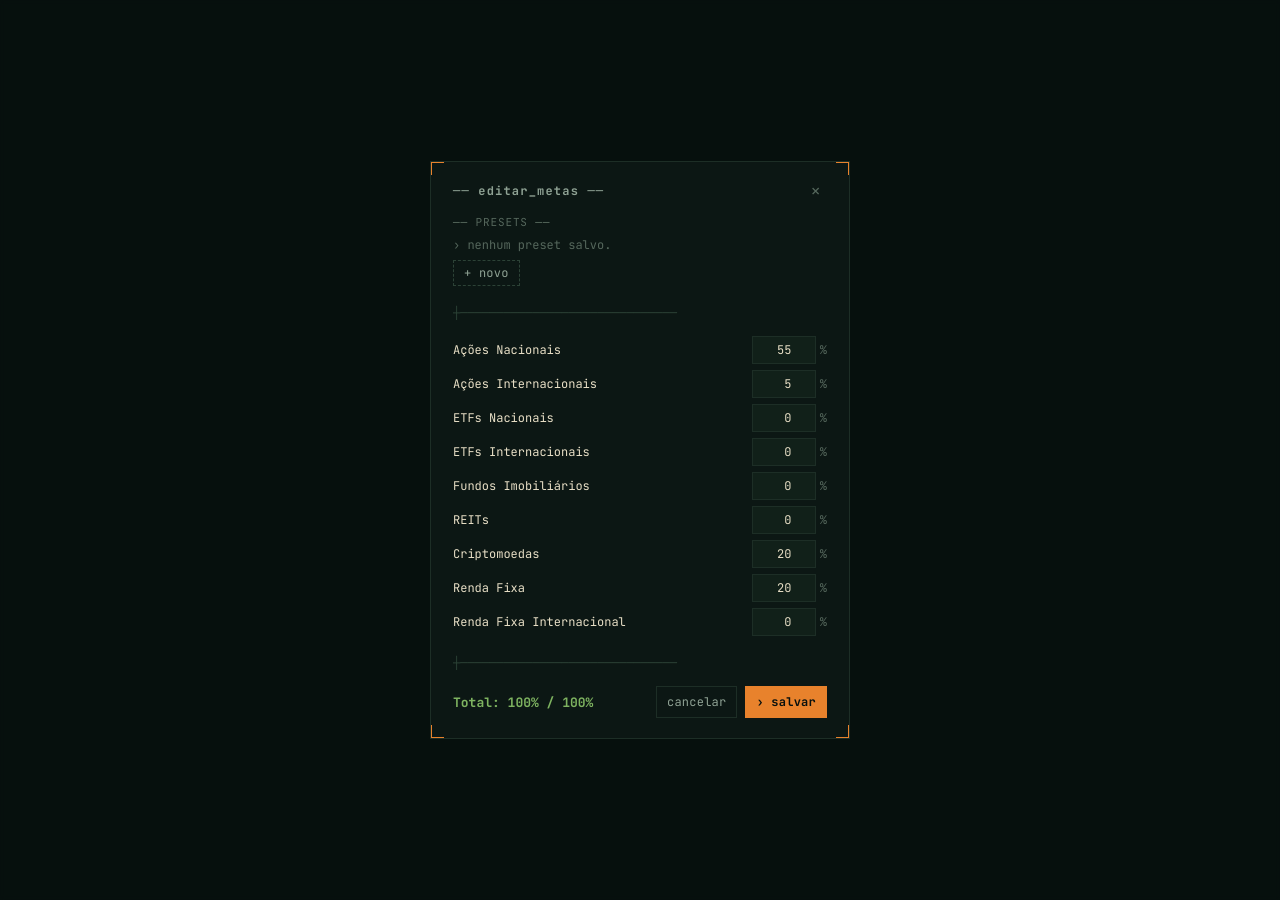
Test: EditTargetsModal › enables Save when total equals 100 after rebalancing
Replace the text in the number field with test id "target-input-acoes_nacionais" with "40" at (784, 350), box [752,336,816,364]
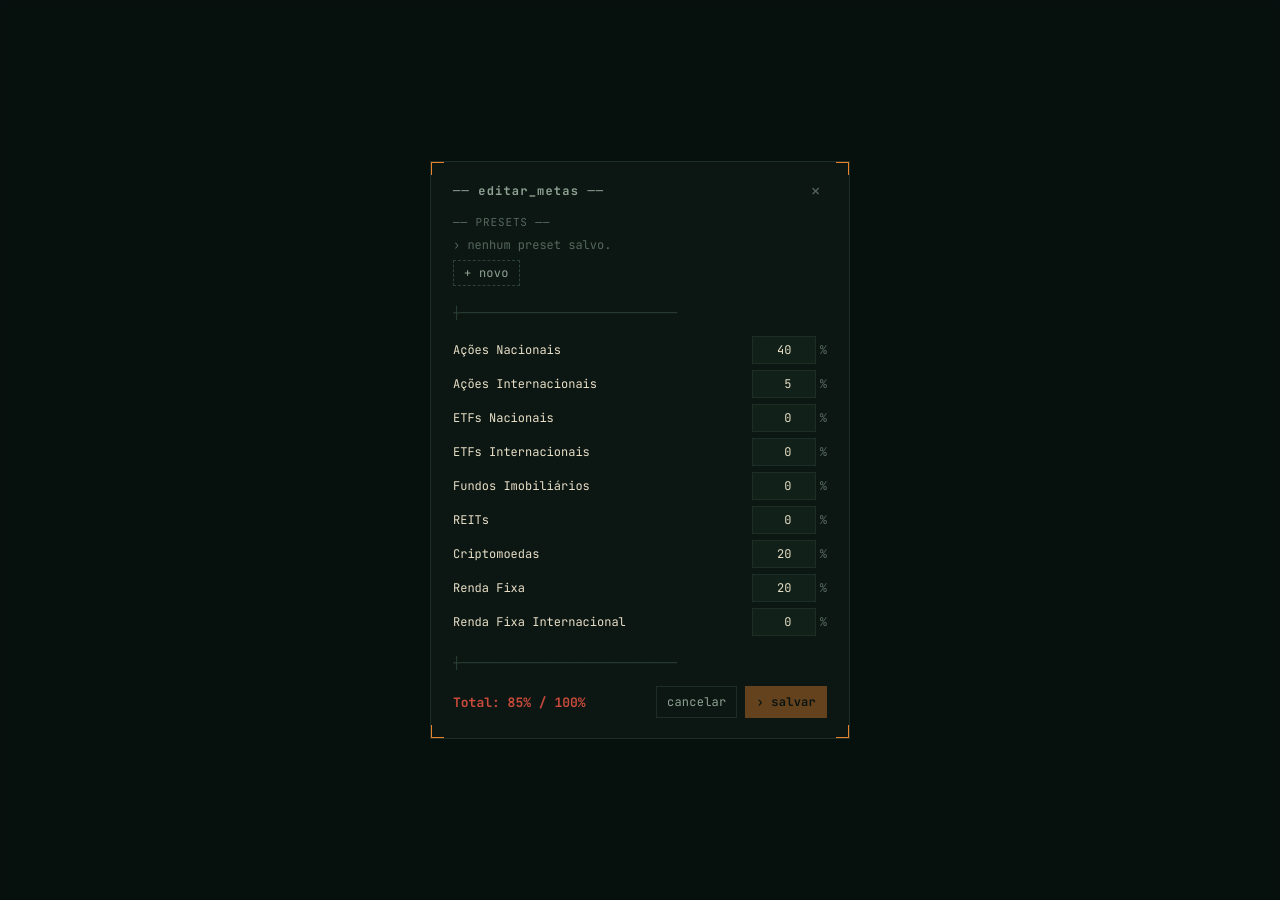
Replace the text in the number field with test id "target-input-fundos_imobiliarios" with "15" at (784, 486), box [752,472,816,500]
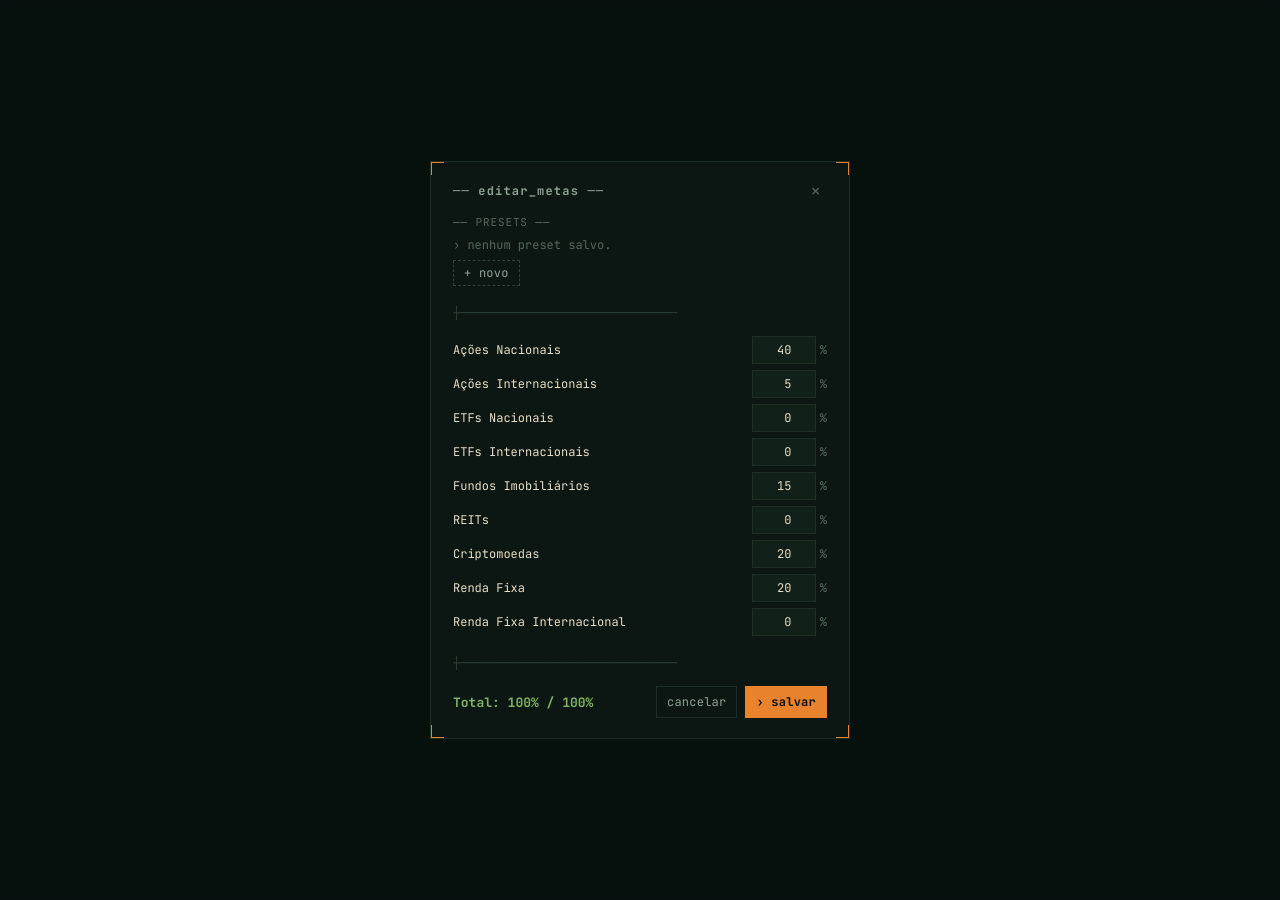
expect the button with test id "save-button" is enabled: met, box [746,686,827,718]
